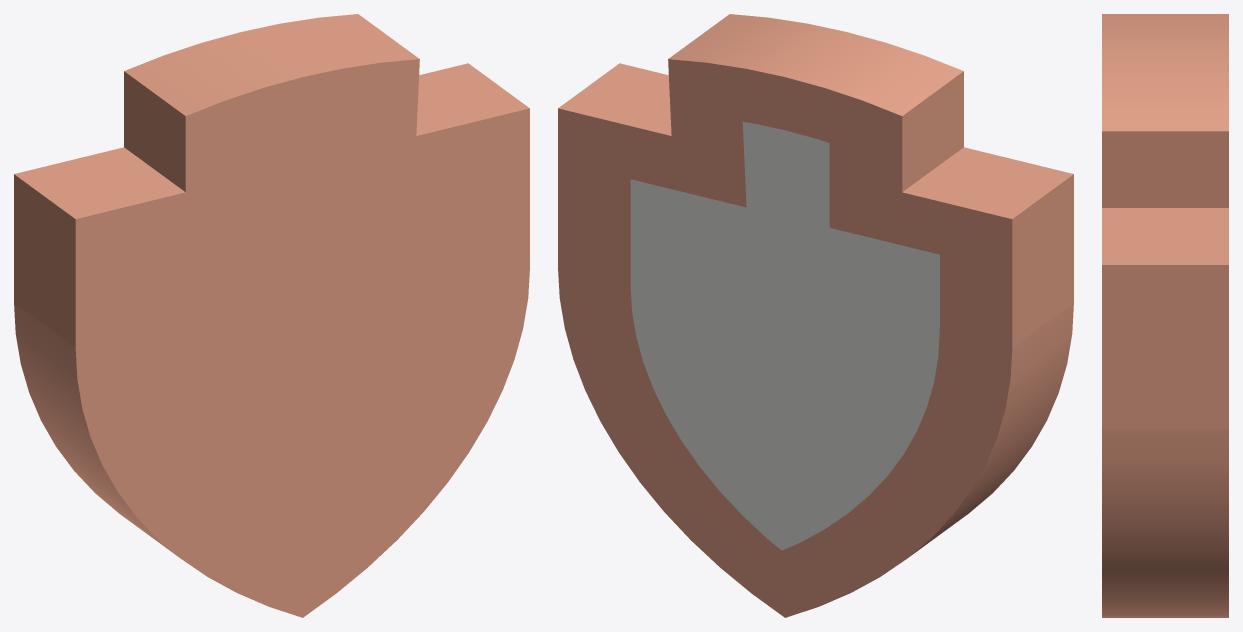
Rendered from shieldRed.glb.
3 views of the same model, side by side, from view 1: azimuth 30°, elevation 25°; view 2: azimuth 150°, elevation 25°; view 3: azimuth 270°, elevation 25° (orthographic). The views are drawn at different scales.
Visible parts, largest first — view 1: shieldRed; view 2: shieldRed; view 3: shieldRed.
Part boxes in pixels (box(x1,y1,x2,y2)): shieldRed: box(14, 14, 529, 617); shieldRed: box(558, 14, 1073, 617); shieldRed: box(1102, 14, 1228, 617).
Bounding box in the file's own units: 2.4 × 2.73 × 0.564.
